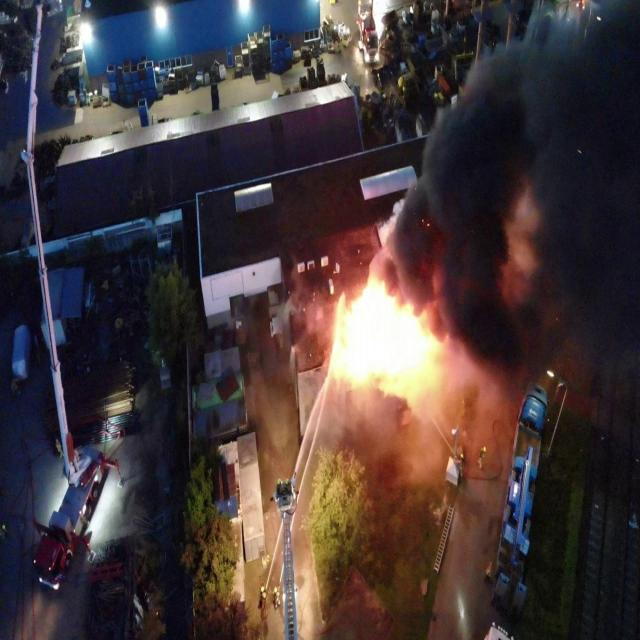Fire: (329, 270, 441, 388)
Smoke: (275, 0, 640, 446)
